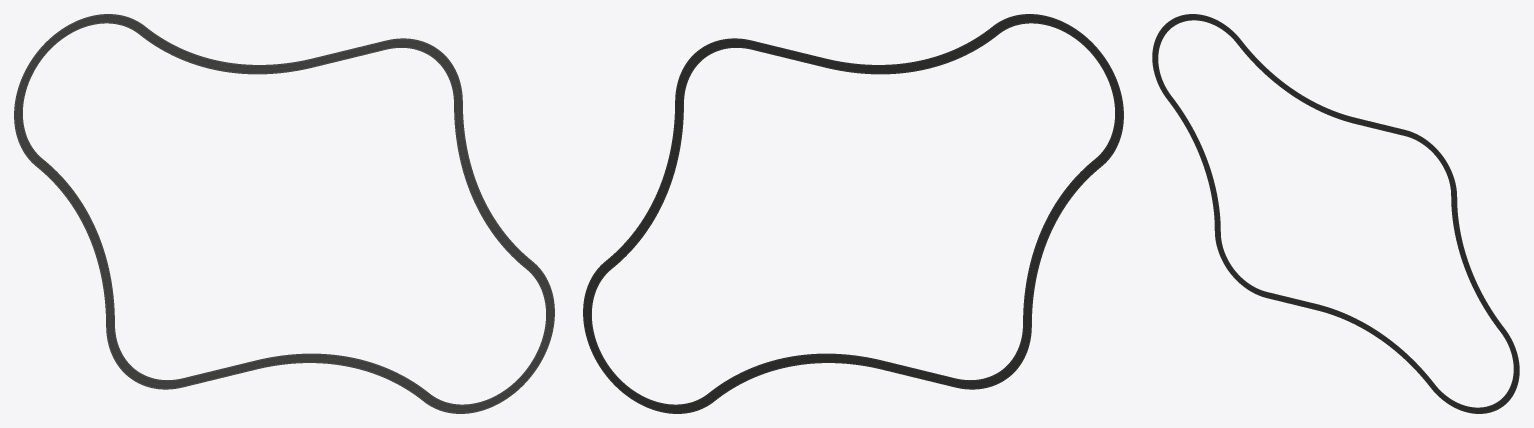
Rendered from Track.glb.
3 renders of one model, left to right at view 1: azimuth 30°, elevation 25°; view 2: azimuth 150°, elevation 25°; view 3: azimuth 330°, elevation 25°, orthographic. The views are drawn at different scales.
Visible parts, largest first — view 1: Road Curved Left 45deg r100.001, Road Curved Left 45deg r100.003, Road Curved Left 45deg r100, Road Curved Left 45deg r100.002, Road Curved Right 90deg r30.005, Road Curved Right 90deg r30.002, Road Curved Right 90deg r30.003, Road Curved Right 90deg r30.004, Road Curved Right 90deg r30.001, Road Curved Right 90deg r30, Road Straight 30, Road Straight 30.001; view 2: Road Curved Left 45deg r100.001, Road Curved Left 45deg r100.003, Road Curved Left 45deg r100, Road Curved Left 45deg r100.002, Road Curved Right 90deg r30.005, Road Curved Right 90deg r30.002, Road Curved Right 90deg r30.003, Road Curved Right 90deg r30.004, Road Curved Right 90deg r30.001, Road Curved Right 90deg r30, Road Straight 30, Road Straight 30.001; view 3: Road Curved Left 45deg r100.002, Road Curved Left 45deg r100, Road Curved Left 45deg r100.001, Road Curved Left 45deg r100.003, Road Curved Right 90deg r30, Road Curved Right 90deg r30.001, Road Curved Right 90deg r30.004, Road Curved Right 90deg r30.005, Road Curved Right 90deg r30.002, Road Curved Right 90deg r30.003, Road Straight 30, Road Straight 30.001.
Boxes of the visible parts, x1,y1,x2,y2 form: Road Curved Left 45deg r100.001: (255,353,429,401); Road Curved Left 45deg r100.003: (139,27,313,74); Road Curved Left 45deg r100: (454,102,532,268); Road Curved Left 45deg r100.002: (37,159,114,325); Road Curved Right 90deg r30.005: (37,14,145,57); Road Curved Right 90deg r30.002: (424,370,531,413); Road Curved Right 90deg r30.003: (106,323,183,389); Road Curved Right 90deg r30.004: (14,53,42,166); Road Curved Right 90deg r30.001: (526,261,554,374); Road Curved Right 90deg r30: (386,38,462,104); Road Straight 30: (313,40,385,67); Road Straight 30.001: (183,360,255,387); Road Curved Left 45deg r100.001: (708,353,882,401); Road Curved Left 45deg r100.003: (824,27,998,74); Road Curved Left 45deg r100: (605,102,683,268); Road Curved Left 45deg r100.002: (1023,159,1100,325); Road Curved Right 90deg r30.005: (992,14,1100,57); Road Curved Right 90deg r30.002: (606,370,713,413); Road Curved Right 90deg r30.003: (954,323,1031,389); Road Curved Right 90deg r30.004: (1095,53,1123,166); Road Curved Right 90deg r30.001: (583,261,611,374); Road Curved Right 90deg r30: (675,38,751,104); Road Straight 30: (752,40,824,67); Road Straight 30.001: (882,360,954,387); Road Curved Left 45deg r100.002: (1168,96,1220,231); Road Curved Left 45deg r100: (1451,196,1503,331); Road Curved Left 45deg r100.001: (1316,304,1434,387); Road Curved Left 45deg r100.003: (1237,40,1355,123); Road Curved Right 90deg r30: (1404,130,1456,196); Road Curved Right 90deg r30.001: (1500,328,1519,405); Road Curved Right 90deg r30.004: (1152,23,1171,99); Road Curved Right 90deg r30.005: (1167,14,1241,43); Road Curved Right 90deg r30.002: (1430,384,1503,413); Road Curved Right 90deg r30.003: (1215,231,1266,297); Road Straight 30: (1355,118,1404,135); Road Straight 30.001: (1267,292,1316,309).
Bounding box in the file's own units: 224 × 194 × 0.1001.
Materials: 1 (1 with a texture image).
